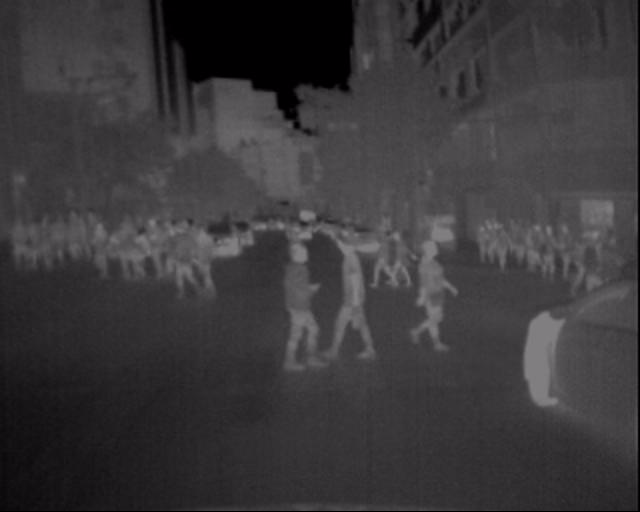person: (261, 219, 367, 377), (313, 221, 385, 366), (410, 226, 465, 353), (435, 217, 532, 277), (540, 220, 631, 274), (161, 222, 210, 309), (181, 224, 220, 313), (114, 212, 147, 291), (283, 215, 319, 286), (77, 220, 107, 292), (359, 228, 390, 283)
